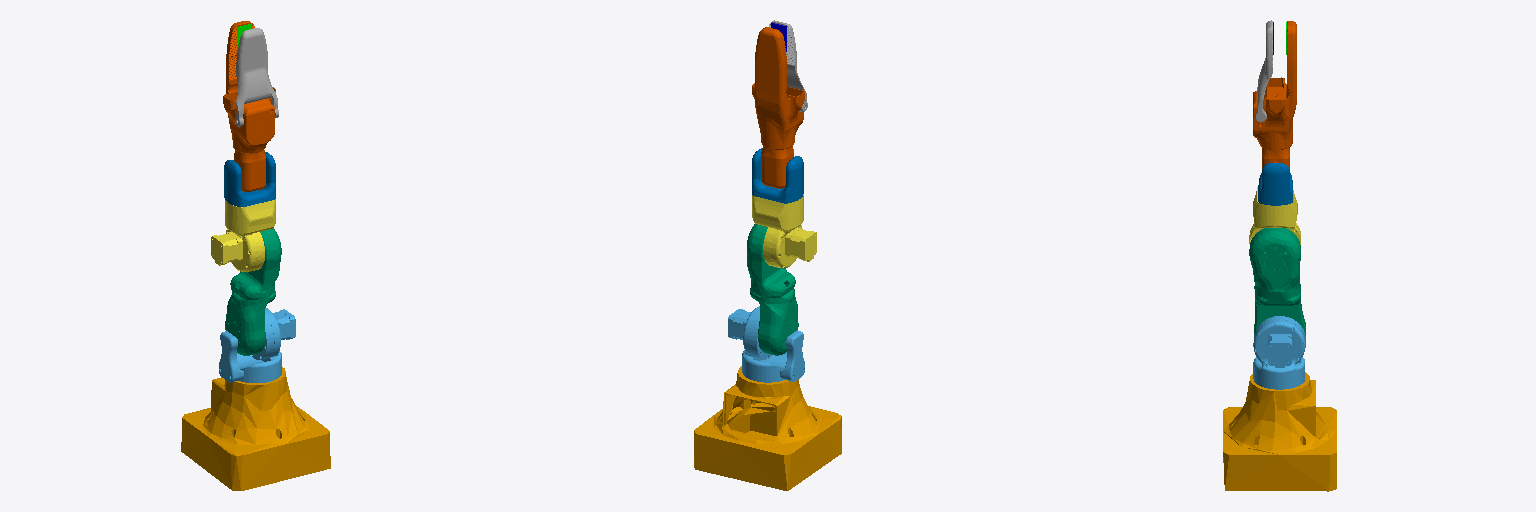
robot.urdf — robot_arm:
<?xml version="1.0" ?>
<robot name="robot_arm">

  <!-- BASE -->
  <link name="base">
    <inertial>
      <origin xyz="0 0 0" rpy="0 0 0"/>
      <mass value="5"/>
      <inertia ixx="0.1" iyy="0.1" izz="0.1" ixy="0" ixz="0" iyz="0"/>
    </inertial>
    <visual>
      <geometry>
        <mesh filename="BASE_S.stl"/>
      </geometry>
    </visual>
    <collision>
      <geometry>
        <mesh filename="BASE_S.stl"/>
      </geometry>
    </collision>
  </link>

  <!-- SHOULDER -->
  <joint name="joint_0" type="revolute">
    <parent link="base"/>
    <child link="shoulder"/>
    <origin xyz="0 0 0.18"/>
    <axis xyz="0 0 1"/>
    <limit lower="-3.1416" upper="3.1416" effort="10" velocity="1"/>
  </joint>
  <link name="shoulder">
    <inertial>
      <origin xyz="0 0 0.09" rpy="0 0 0"/>
      <mass value="3"/>
      <inertia ixx="0.02" iyy="0.02" izz="0.02" ixy="0" ixz="0" iyz="0"/>
    </inertial>
    <visual>
      <origin xyz="0 0 -0.18"/>
      <geometry>
        <mesh filename="A1_S.stl"/>
      </geometry>
    </visual>
    <collision>
      <origin xyz="0 0 -0.18"/>
      <geometry>
        <mesh filename="A1_S.stl"/>
      </geometry>
    </collision>
  </link>

  <!-- ARM1 -->
  <joint name="joint_1" type="revolute">
    <parent link="shoulder"/>
    <child link="arm1"/>
    <origin xyz="0 0 0.06"/>
    <axis xyz="1 0 0"/>
    <limit lower="-1.5708" upper="1.5708" effort="10" velocity="1"/>
  </joint>
  <link name="arm1">
    <inertial>
      <origin xyz="0 0 0.23" rpy="0 0 0"/>
      <mass value="2.5"/>
      <inertia ixx="0.015" iyy="0.015" izz="0.015" ixy="0" ixz="0" iyz="0"/>
    </inertial>
    <visual>
      <origin xyz="0 0 -0.23"/>
      <geometry>
        <mesh filename="A2_S.stl"/>
      </geometry>
    </visual>
    <collision>
      <origin xyz="0 0 -0.23"/>
      <geometry>
        <mesh filename="A2_S.stl"/>
      </geometry>
    </collision>
  </link>

  <!-- ARM2 -->
  <joint name="joint_2" type="revolute">
    <parent link="arm1"/>
    <child link="arm2"/>
    <origin xyz="0 0 0.17"/>
    <axis xyz="1 0 0"/>
    <limit lower="-1.5708" upper="1.5708" effort="10" velocity="1"/>
  </joint>
  <link name="arm2">
    <inertial>
      <origin xyz="0 0 0.35" rpy="0 0 0"/>
      <mass value="2.5"/>
      <inertia ixx="0.015" iyy="0.015" izz="0.015" ixy="0" ixz="0" iyz="0"/>
    </inertial>
    <visual>
      <origin xyz="0 0 -0.39"/>
      <geometry>
        <mesh filename="A3_S.stl"/>
      </geometry>
    </visual>
    <collision>
      <origin xyz="0 0 -0.35"/>
      <geometry>
        <mesh filename="A3_S.stl"/>
      </geometry>
    </collision>
  </link>

  <!-- ELBOW -->
  <joint name="joint_3" type="revolute">
    <parent link="arm2"/>
    <child link="elbow"/>
    <origin xyz="-0.015 0 0.86"/>
    <axis xyz="0 0 1"/>
    <limit lower="-1.5708" upper="1.5708" effort="10" velocity="1"/>
  </joint>
  <link name="elbow">
    <inertial>
      <origin xyz="0 0 0.15" rpy="0 0 0"/>
      <mass value="2"/>
      <inertia ixx="0.01" iyy="0.01" izz="0.01" ixy="0" ixz="0" iyz="0"/>
    </inertial>
    <visual>
      <origin xyz="0.015 0 -1.25"/>
      <geometry>
        <mesh filename="A4_S.stl"/>
      </geometry>
    </visual>
    <collision>
      <origin xyz="0 0 -0.15"/>
      <geometry>
        <mesh filename="A4_S.stl"/>
      </geometry>
    </collision>
  </link>

  <!-- ARM3 + GRIPPER_INNER -->
  <joint name="joint_4" type="revolute">
    <parent link="elbow"/>
    <child link="arm3"/>
    <origin xyz="0 0 -0.7"/>
    <axis xyz="1 0 0"/>
    <limit lower="-1.5708" upper="1.5708" effort="10" velocity="1"/>
  </joint>
  <link name="arm3">
    <inertial>
      <origin xyz="0 0 0.25" rpy="0 0 0"/>
      <mass value="0.5"/>
      <inertia ixx="0.005" iyy="0.005" izz="0.005" ixy="0" ixz="0" iyz="0"/>
    </inertial>
    <visual>
      <origin xyz="0.015 0 -0.55"/>
      <geometry>
        <mesh filename="A5_S.stl"/>
      </geometry>
    </visual>
    <visual>
      <origin xyz="0.015 0 -0.55"/>
      <geometry>
        <mesh filename="GRIPPER_INNER_S.stl"/>
      </geometry>
    </visual>
    <collision>
      <origin xyz="0 0 -0.25"/>
      <geometry>
        <mesh filename="A5_S.stl"/>
      </geometry>
    </collision>
  </link>
  
   <link name="gripper_inner_site">
    <visual>
      <origin xyz="0 0.0058 0.12"/>
      <geometry>
        <box size="0.03 0.001 0.05"/>
      </geometry>
      <material name="green">
        <color rgba="0 1 0 1"/>
      </material>
    </visual>
  </link>
  <joint name="gripper_inner_site_joint" type="fixed">
    <parent link="arm3"/>
    <child link="gripper_inner_site"/>
    <origin xyz="0 0.0058 0.12" rpy="0 0 0"/>
  </joint>

  <!-- GRIPPER UPPER -->
  <joint name="joint_5" type="revolute">
    <parent link="arm3"/>
    <child link="gripper"/>
    <origin xyz="0 0 0.09"/>
    <axis xyz="1 0 0"/>
    <limit lower="-0.2618" upper="1.5708" effort="10" velocity="1"/>
  </joint>
  <link name="gripper">
    <inertial>
      <origin xyz="0 0 0.1" rpy="0 0 0"/>
      <mass value="0.3"/>
      <inertia ixx="0.001" iyy="0.001" izz="0.001" ixy="0" ixz="0" iyz="0"/>
    </inertial>
    <visual>
      <origin xyz="0.015 0 -0.64"/>
      <geometry>
        <mesh filename="GRIPPER_UPPER_S.stl"/>
      </geometry>
    </visual>
    <collision>
      <origin xyz="0 0 -0.1"/>
      <geometry>
        <mesh filename="GRIPPER_UPPER_S.stl"/>
      </geometry>
    </collision>
  </link>
  
  <link name="gripper_upper_site">
    <visual>
      <origin xyz="0 -0.0058 0.075"/>
      <geometry>
        <box size="0.03 0.002 0.05"/>
      </geometry>
      <material name="blue">
        <color rgba="0 0 1 1"/>
      </material>
    </visual>
  </link>
  <joint name="gripper_upper_site_joint" type="fixed">
    <parent link="gripper"/>
    <child link="gripper_upper_site"/>
    <origin xyz="0 -0.0058 0.075" rpy="0 0 0"/>
  </joint>

</robot>

--- What the picture shows (computed from the rendered views, not written in the file) ---
Views: 3 orthographic renders of the robot side by side, from view 1: azimuth 30°, elevation 25°; view 2: azimuth 150°, elevation 25°; view 3: azimuth 270°, elevation 25°.
Robot: robot_arm — 9 links, 8 joints (6 revolute, 2 fixed); root link base; default pose: every joint at zero.
Visible links, largest first — view 1: base, arm3, arm1, arm2, shoulder, gripper, elbow; view 2: base, arm3, arm1, arm2, shoulder, elbow, gripper; view 3: base, arm1, arm3, shoulder, elbow, arm2, gripper.
Boxes of the visible links, x1,y1,x2,y2 form: base: (181,367,330,490); arm3: (223,21,275,191); arm1: (225,228,281,355); arm2: (211,199,275,271); shoulder: (219,308,295,382); gripper: (235,28,278,126); elbow: (224,152,275,206); base: (694,366,841,490); arm3: (752,27,804,188); arm1: (747,224,798,355); arm2: (752,194,816,267); shoulder: (728,306,804,382); elbow: (752,148,803,203); gripper: (769,20,807,111); base: (1223,372,1336,491); arm1: (1249,228,1305,334); arm3: (1253,21,1296,168); shoulder: (1253,316,1305,389); elbow: (1258,163,1292,205); arm2: (1249,187,1300,244); gripper: (1255,20,1272,121).
Bounding box of the posed robot: 0.199 × 0.1983 × 0.8395 m (x, y, z).
Meshes: 8 distinct files referenced, 8 mesh visuals loaded (8 binary STL).
